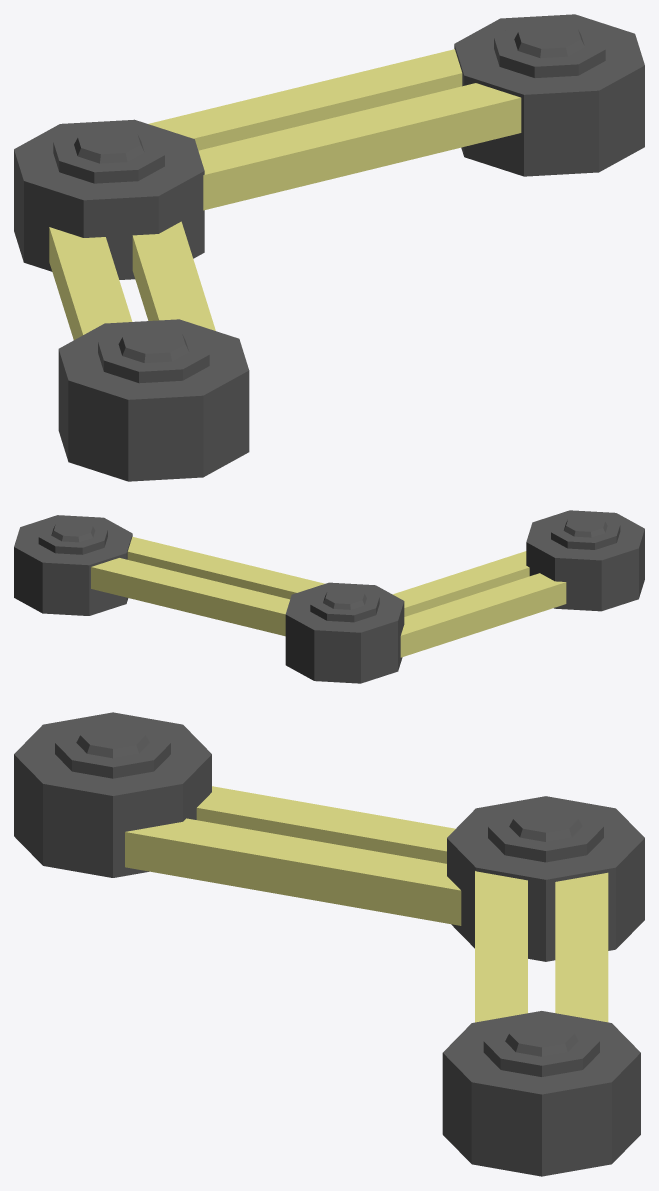
Rendered from jointing.fbx.
3 views of the same model, one above another, from view 1: azimuth 30°, elevation 25°; view 2: azimuth 150°, elevation 25°; view 3: azimuth 270°, elevation 25° (orthographic). The views are drawn at different scales.
Visible parts, largest first — view 1: Jointing; view 2: Jointing; view 3: Jointing.
Boxes of the visible parts, x1=… form: Jointing: x1=14, y1=14, x2=644, y2=481; Jointing: x1=14, y1=510, x2=644, y2=683; Jointing: x1=14, y1=712, x2=644, y2=1176.
Size of the model in its own units: 582 by 406 by 87.34.
